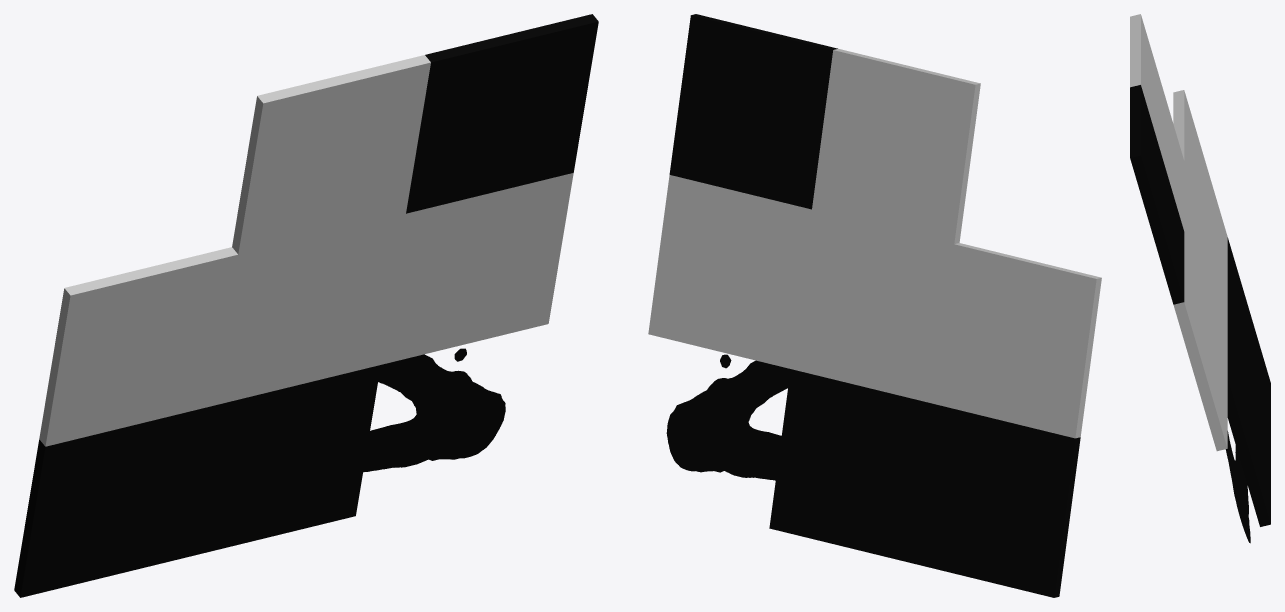
File: SpuzzlePieces.fbx
3 views of the same model, side by side, from view 1: azimuth 30°, elevation 25°; view 2: azimuth 150°, elevation 25°; view 3: azimuth 270°, elevation 25° (orthographic). The views are drawn at different scales.
Parts seen in each view (by area): view 1: Piece 6, Piece 8, Piece 7, Piece 3, Piece 4, Piece 2, Piece 5, Piece 1; view 2: Piece 6, Piece 8, Piece 3, Piece 7, Piece 5, Piece 2, Piece 4, Piece 1; view 3: Piece 7, Piece 4, Piece 2, Piece 8, Piece 6, Piece 3, Piece 5, Piece 1.
Boxes of the visible parts, <box> form: Piece 6: <box>39,247,237,446</box>; Piece 8: <box>232,55,430,254</box>; Piece 7: <box>406,14,598,213</box>; Piece 3: <box>14,406,212,597</box>; Piece 4: <box>381,173,573,364</box>; Piece 2: <box>188,365,380,556</box>; Piece 5: <box>213,214,405,405</box>; Piece 1: <box>363,348,505,472</box>; Piece 6: <box>933,243,1101,438</box>; Piece 8: <box>812,48,980,244</box>; Piece 3: <box>912,404,1080,597</box>; Piece 7: <box>669,14,837,209</box>; Piece 5: <box>790,209,954,403</box>; Piece 2: <box>769,369,932,562</box>; Piece 4: <box>648,175,811,368</box>; Piece 1: <box>666,354,790,480</box>; Piece 7: <box>1130,85,1184,304</box>; Piece 4: <box>1173,232,1227,451</box>; Piece 2: <box>1227,308,1270,526</box>; Piece 8: <box>1130,14,1184,230</box>; Piece 6: <box>1173,90,1227,306</box>; Piece 3: <box>1227,237,1270,453</box>; Piece 5: <box>1184,162,1227,377</box>; Piece 1: <box>1225,431,1250,543</box>.
Bounding box in the file's own units: 45 × 43.73 × 12.61.
